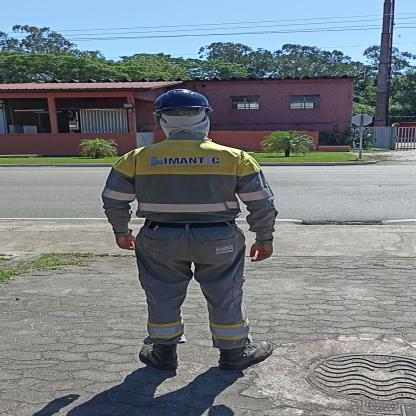Balaclava: (157, 111, 212, 140)
Capacete: (152, 86, 210, 110)
